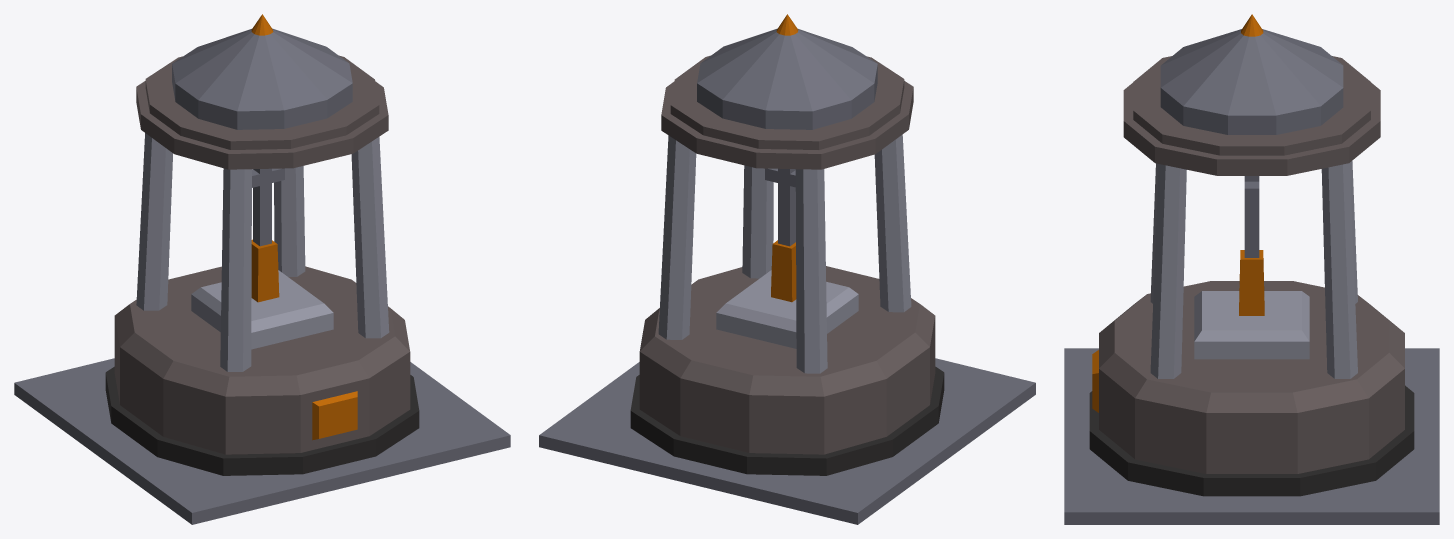
Rendered from HWN20_Grave_21.glb.
3 views of the same model, side by side, from view 1: azimuth 30°, elevation 25°; view 2: azimuth 150°, elevation 25°; view 3: azimuth 270°, elevation 25° (orthographic). The views are drawn at different scales.
Parts seen in each view (by area): view 1: HWN20_Grave_21; view 2: HWN20_Grave_21; view 3: HWN20_Grave_21.
Part boxes in pixels (x1=…): HWN20_Grave_21: x1=14, y1=14, x2=510, y2=524; HWN20_Grave_21: x1=539, y1=14, x2=1035, y2=524; HWN20_Grave_21: x1=1064, y1=14, x2=1439, y2=524.
Size of what is drawn, in the model's own units: 1.66 by 2.03 by 1.61.
1 material, 1 textured.
